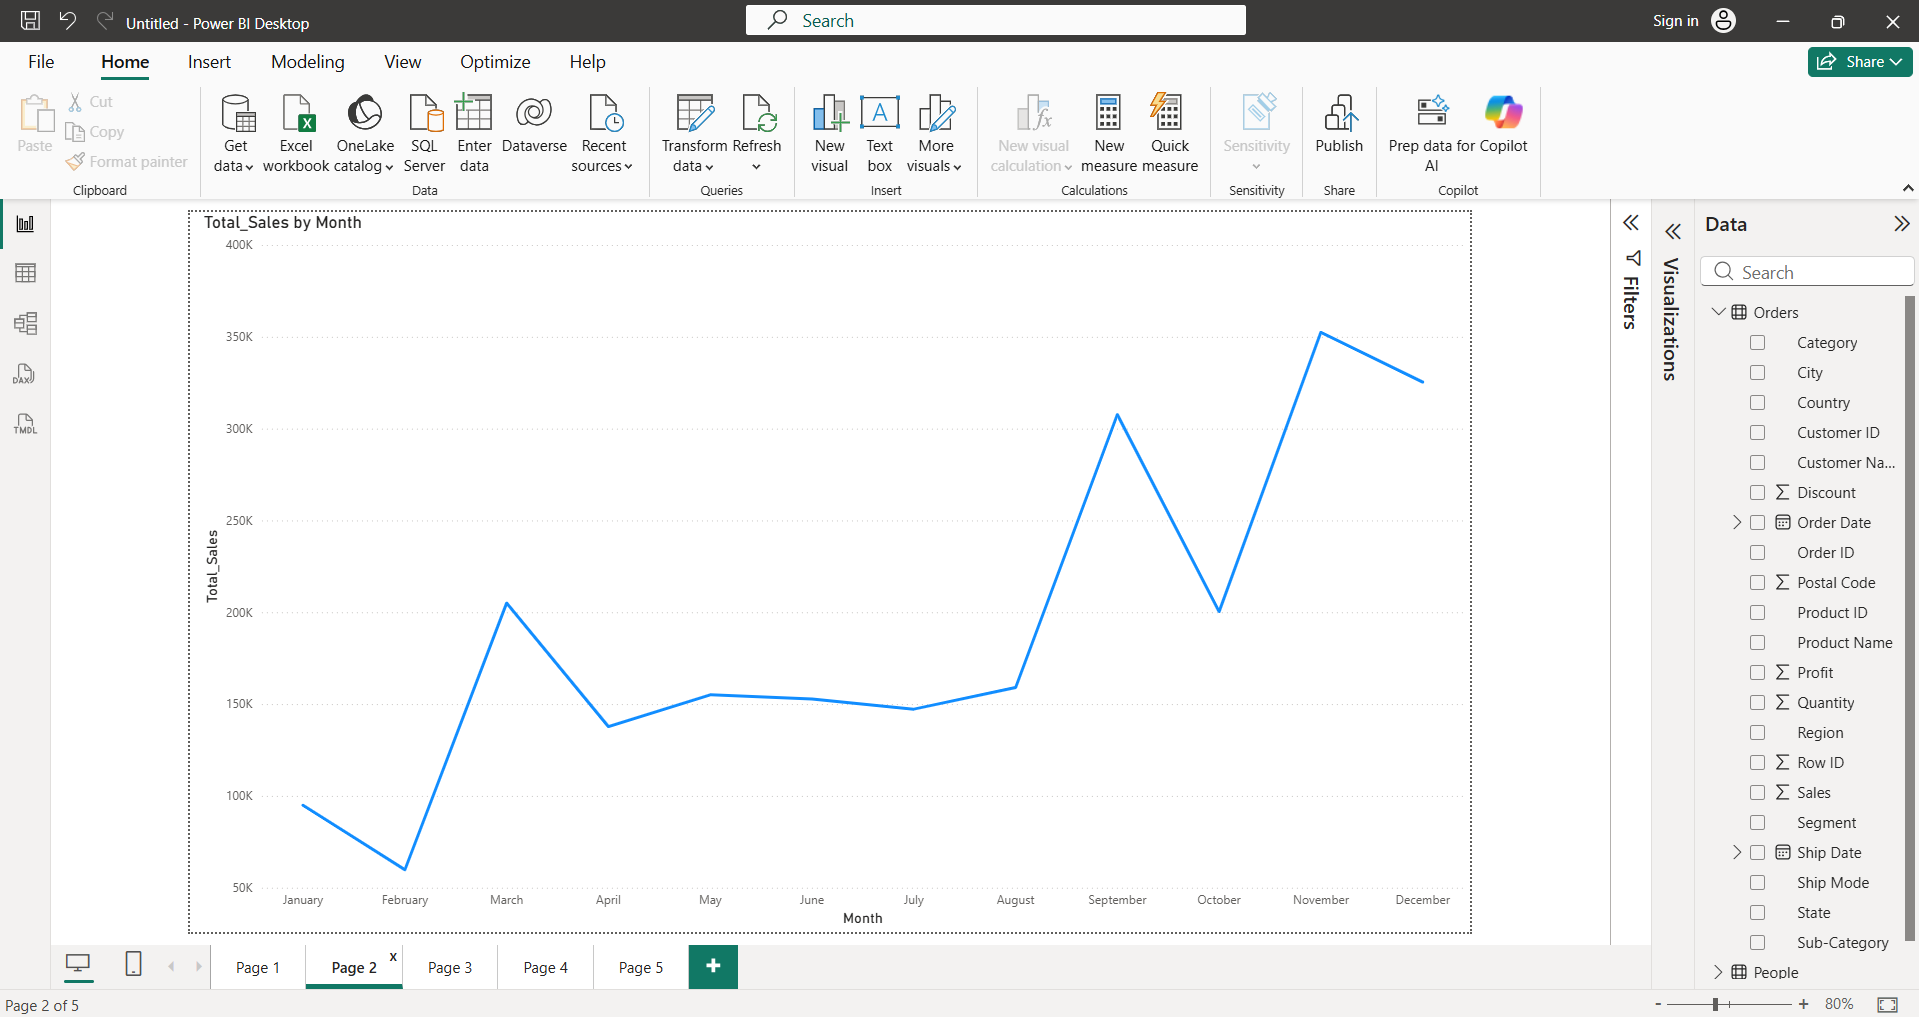

This screenshot's page, from the dashboard's own definition file:
{"tool":"powerbi","page":{"name":"Page 2","canvas":[1280,720],"ordinal":1},"visuals":[{"type":"lineChart","fields":{"Category":["Orders.Order Date.Variation.Date Hierarchy.Month"],"Y":["Sum(Orders.Sales)"]},"box":[8.9,0,1269.9,719.7],"z":0}]}

Visuals, with their boxes on the page's 1280x720 design canvas (x1, y1, x2, y2). These are canvas units, not pixel positions in the 1919x1017 screenshot, which may show the page scaled, cropped or inside an application window:
lineChart - Orders.Order Date.Variation.Date Hierarchy.Month x Sum(Orders.Sales): [x1=9, y1=0, x2=1279, y2=720]
